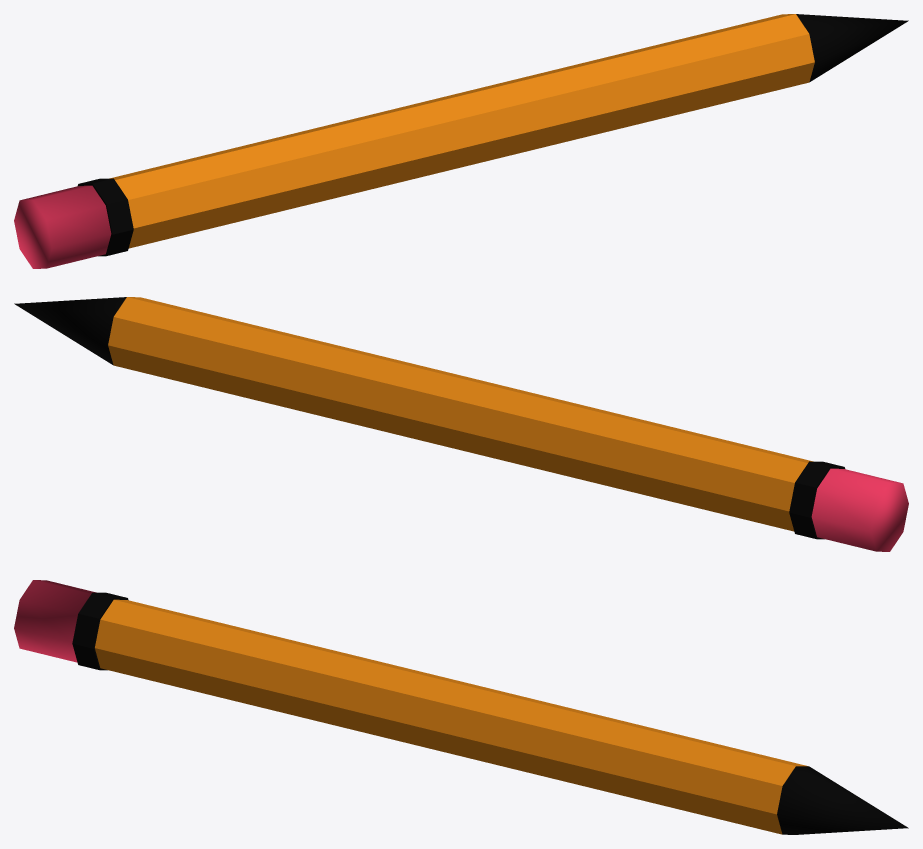
File: Pencil.fbx
3 renders of one model, top to bottom at view 1: azimuth 30°, elevation 25°; view 2: azimuth 150°, elevation 25°; view 3: azimuth 330°, elevation 25°, orthographic.
Parts seen in each view (by area): view 1: Cylinder; view 2: Cylinder; view 3: Cylinder.
Part boxes in pixels (x1,y1,x2,y2): Cylinder: (14, 14, 908, 268); Cylinder: (14, 297, 908, 551); Cylinder: (14, 580, 908, 834).
Size of the model in its own units: 262 by 20.8 by 20.8.
